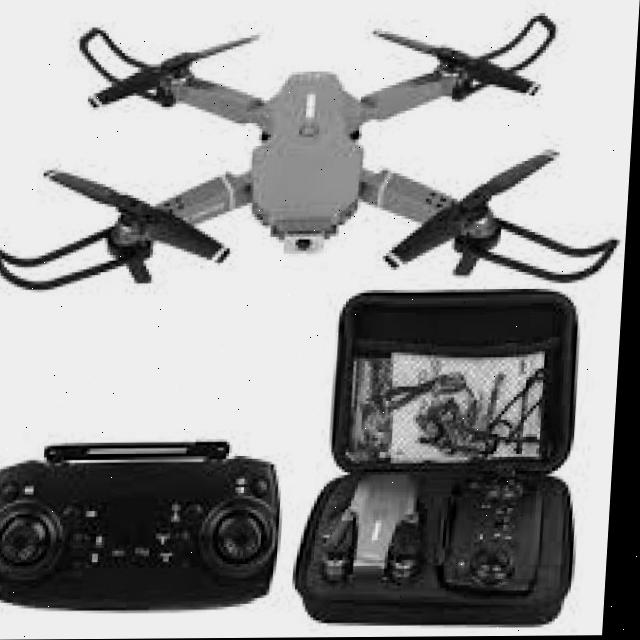drone: (0, 5, 640, 319)
